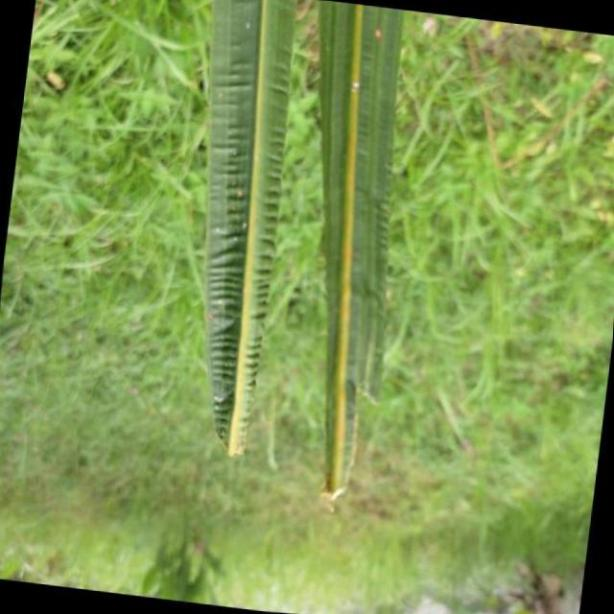Boron: (320, 0, 409, 507), (203, 0, 294, 459)
